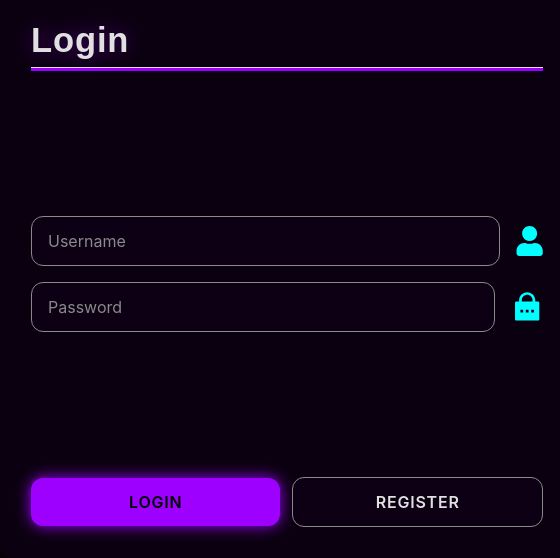
it: LoginModal › shows client-side validation messages on empty submit
This screenshot has width=560, height=558.
Click the button "Login" at (156, 502), box [31,478,280,526]
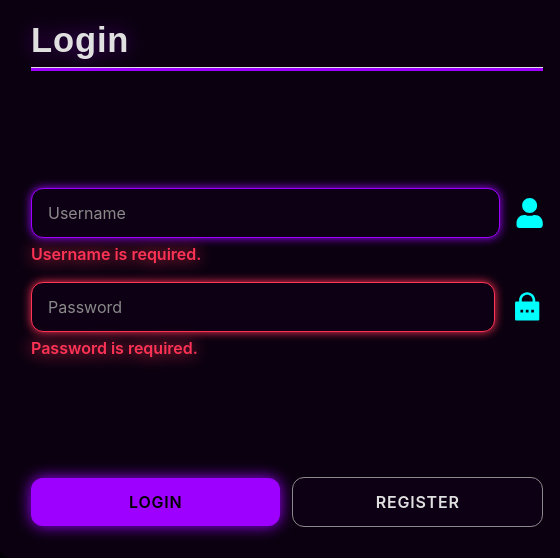
Now the text "Username is required." is shown, box [31,242,201,266]
Now the text "Password is required." is shown, box [31,336,198,360]
